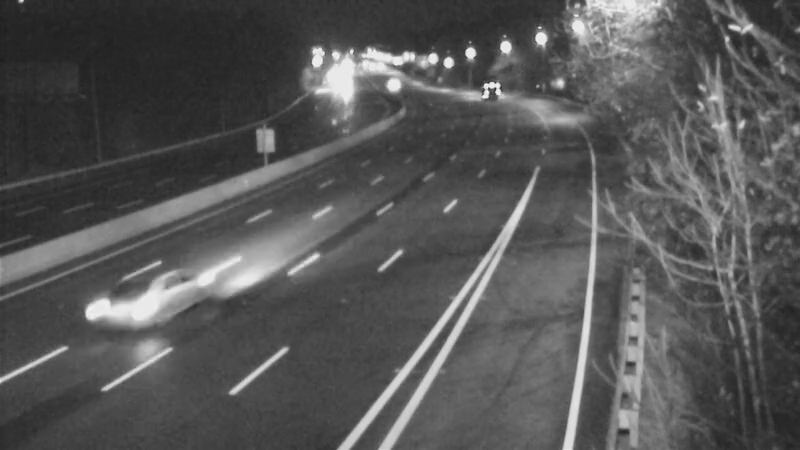vehicle: (105, 248, 185, 328), (367, 59, 417, 109), (456, 61, 506, 111)
